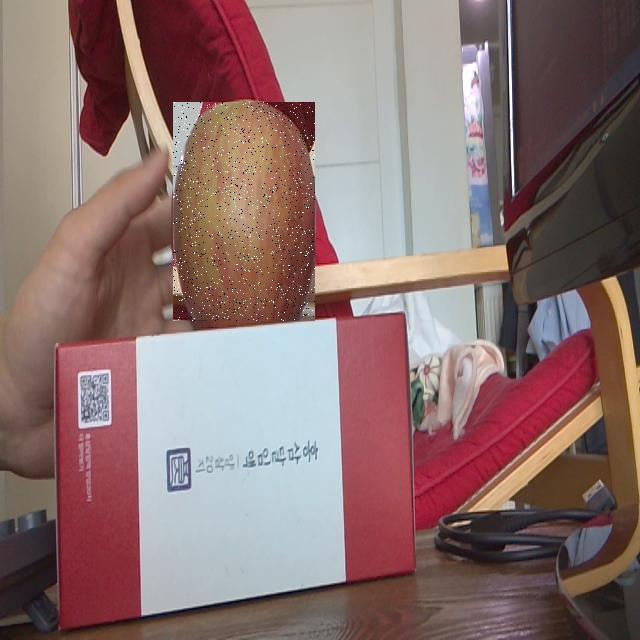apple: (173, 102, 315, 321)
